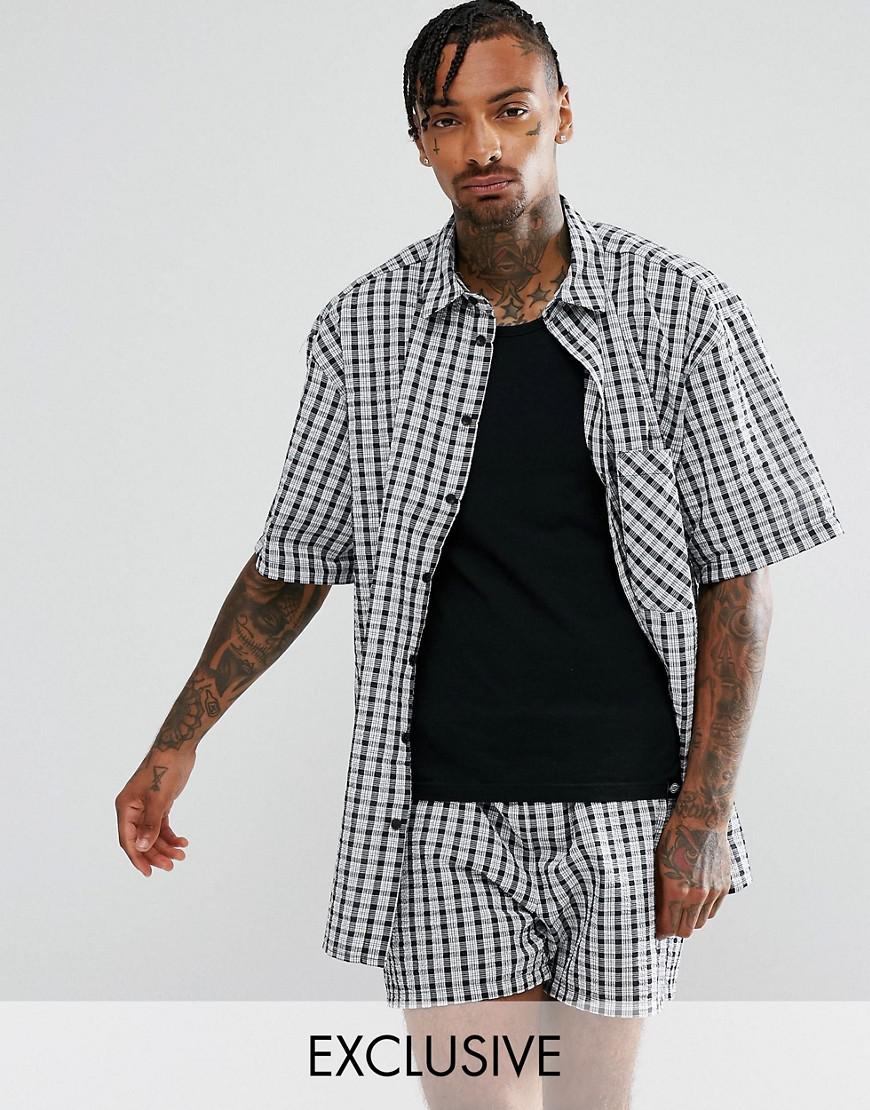teeshirt: (251, 203, 829, 800)
